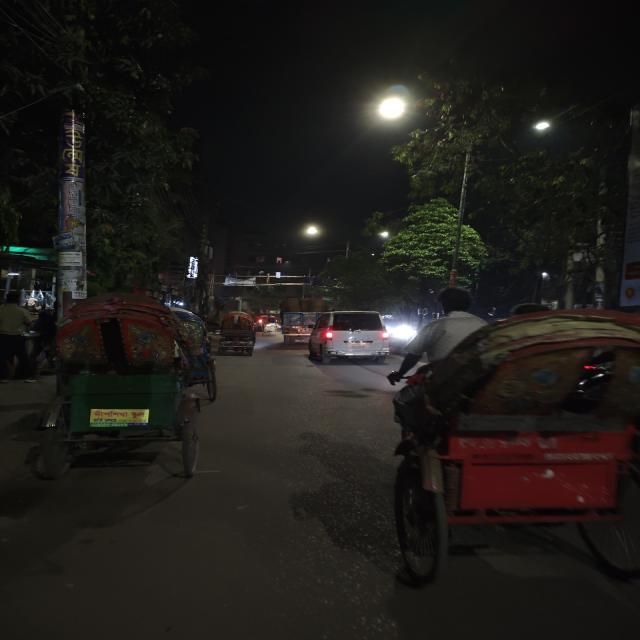car: (314, 308, 385, 366)
pedestrian: (0, 290, 39, 382)
rickshaw: (383, 294, 640, 594), (32, 290, 228, 485), (213, 310, 260, 358)
truck: (275, 310, 313, 343)
